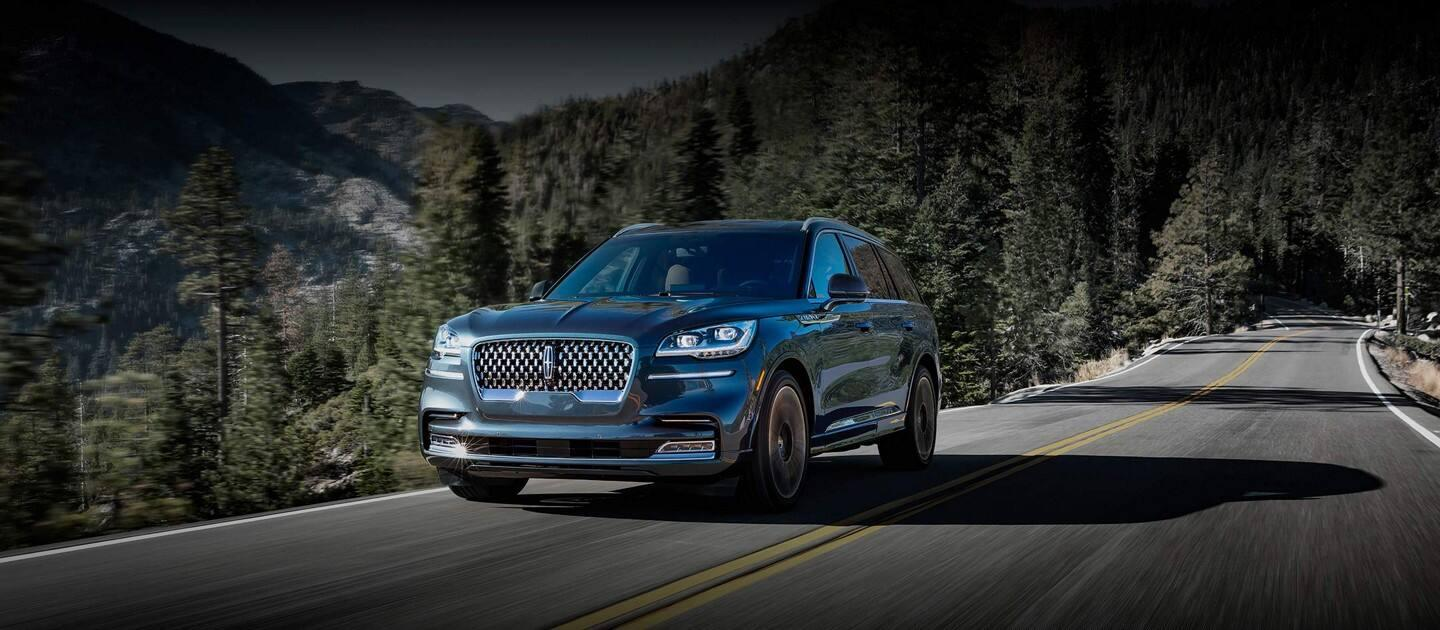lincoln: (536, 342, 561, 384)
